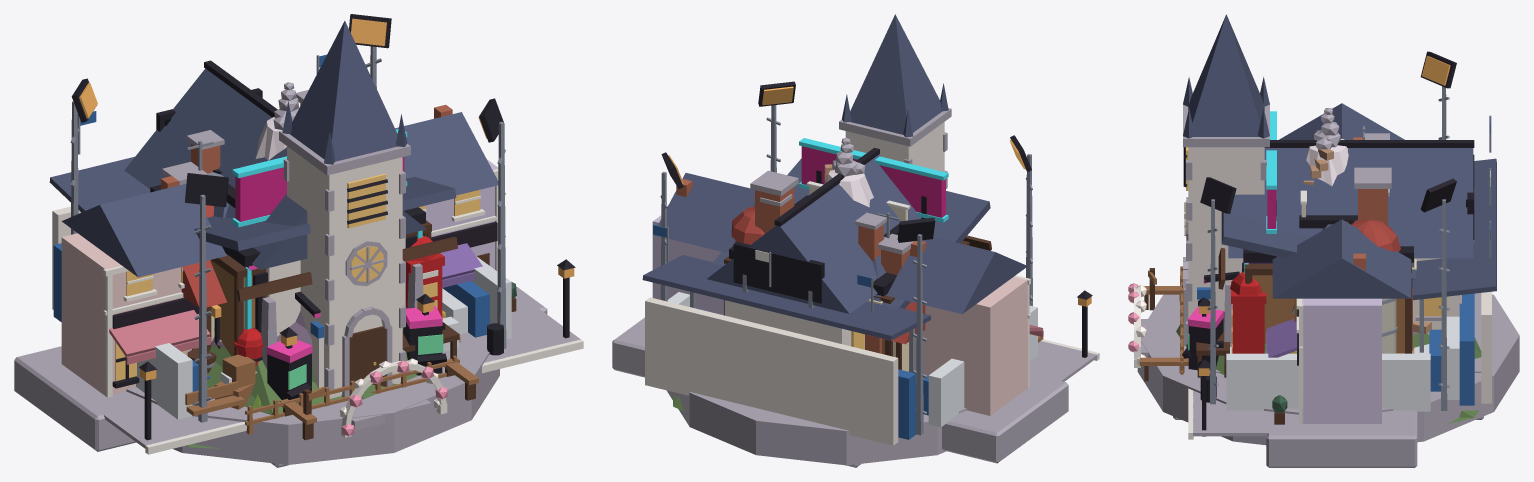
The model's file is landmarks.glb.
The picture shows the model from 3 angles, left to right: view 1: azimuth 30°, elevation 25°; view 2: azimuth 150°, elevation 25°; view 3: azimuth 270°, elevation 25°; orthographic projection. The views are drawn at different scales.
Visible parts, largest first — view 1: highstreet_mesh, chapel_mesh, stadium_mesh, workshop_mesh, arcade_mesh, farmhouse_mesh, gloaming_mesh, postoffice_mesh; view 2: stadium_mesh, highstreet_mesh, chapel_mesh, workshop_mesh, arcade_mesh, farmhouse_mesh, gloaming_mesh, postoffice_mesh; view 3: chapel_mesh, highstreet_mesh, stadium_mesh, workshop_mesh, gloaming_mesh, arcade_mesh, postoffice_mesh, farmhouse_mesh.
Boxes of the visible parts, x1,y1,x2,y2 form: highstreet_mesh: [14, 104, 583, 454]; chapel_mesh: [124, 21, 478, 467]; stadium_mesh: [49, 14, 511, 464]; workshop_mesh: [187, 90, 459, 409]; arcade_mesh: [150, 129, 446, 399]; farmhouse_mesh: [162, 162, 459, 434]; gloaming_mesh: [186, 82, 460, 448]; postoffice_mesh: [186, 130, 444, 366]; stadium_mesh: [642, 81, 1037, 465]; highstreet_mesh: [612, 173, 1099, 463]; chapel_mesh: [707, 14, 951, 467]; workshop_mesh: [712, 158, 991, 356]; arcade_mesh: [729, 138, 948, 296]; farmhouse_mesh: [731, 206, 925, 371]; gloaming_mesh: [673, 138, 909, 411]; postoffice_mesh: [760, 194, 886, 353]; chapel_mesh: [1128, 14, 1483, 419]; highstreet_mesh: [1188, 103, 1417, 467]; stadium_mesh: [1137, 51, 1519, 445]; workshop_mesh: [1196, 126, 1416, 377]; gloaming_mesh: [1148, 108, 1481, 423]; arcade_mesh: [1182, 111, 1413, 370]; postoffice_mesh: [1230, 133, 1416, 353]; farmhouse_mesh: [1180, 219, 1400, 374].
Size of the model in its own units: 5.3 by 4.52 by 4.4.
